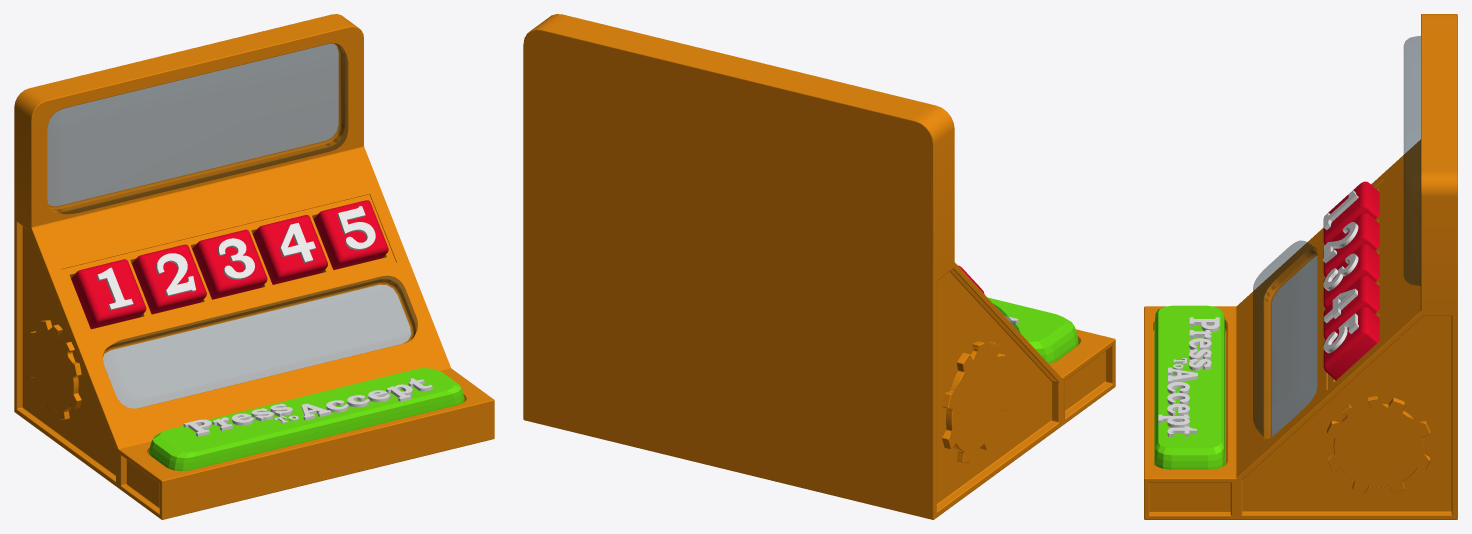
Rendered from Questionnair.fbx.
3 views of the same model, side by side, from view 1: azimuth 30°, elevation 25°; view 2: azimuth 150°, elevation 25°; view 3: azimuth 270°, elevation 25° (orthographic). The views are drawn at different scales.
Visible parts, largest first — view 1: Cube.009, Glass.011, Glass.009, Glass.010, B001, Plane.002, B003, B004, B005, B002; view 2: Cube.009, Plane.002, Glass.010; view 3: Cube.009, Glass.010, Glass.009, Plane.003, Glass.011, B005, B002, B004, B003, B001.
Boxes of the visible parts, <box> form: Cube.009: <box>14,14,494,519</box>; Glass.011: <box>47,44,347,213</box>; Glass.009: <box>103,276,417,408</box>; Glass.010: <box>149,368,464,470</box>; B001: <box>71,259,146,329</box>; Plane.002: <box>28,320,81,419</box>; B003: <box>192,229,267,299</box>; B004: <box>252,215,327,284</box>; B005: <box>313,200,388,269</box>; B002: <box>131,244,206,314</box>; Cube.009: <box>523,14,1115,519</box>; Plane.002: <box>942,341,1007,462</box>; Glass.010: <box>987,297,1078,363</box>; Cube.009: <box>1144,14,1457,519</box>; Glass.010: <box>1154,305,1224,469</box>; Glass.009: <box>1253,240,1316,438</box>; Plane.003: <box>1327,396,1430,493</box>; Glass.011: <box>1404,36,1420,285</box>; B005: <box>1323,307,1379,380</box>; B002: <box>1323,213,1379,277</box>; B004: <box>1323,275,1379,339</box>; B003: <box>1323,244,1379,308</box>; B001: <box>1323,181,1379,244</box>.
Bounding box in the file's own units: 442 × 407 × 340.
